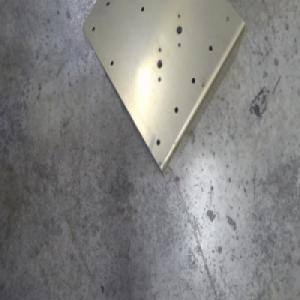MetalSheet: (81, 0, 245, 176)
